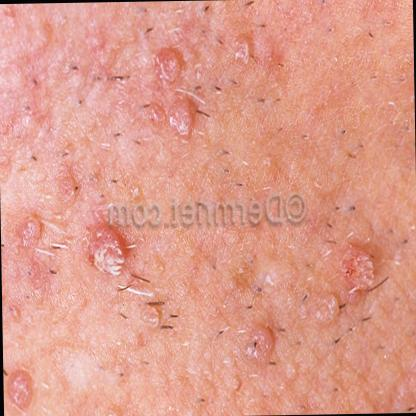Warts: (338, 238, 378, 304), (85, 227, 128, 287), (3, 356, 34, 416), (12, 207, 42, 254)
